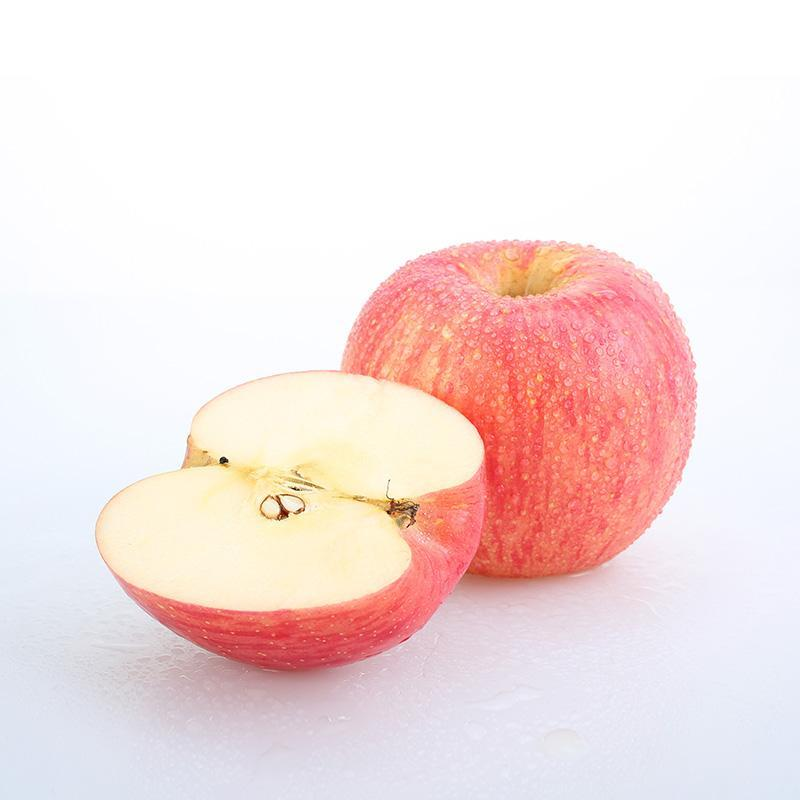apple: (343, 243, 703, 587)
